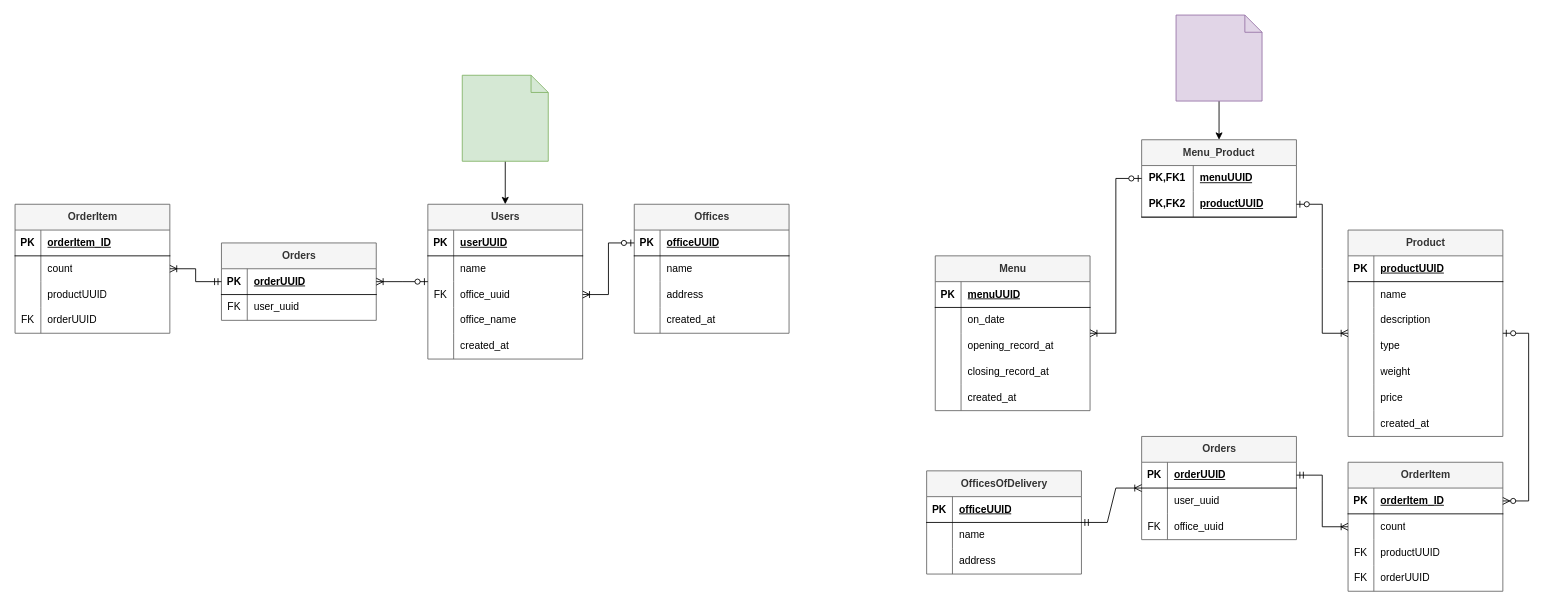
Some shapes in this 1551 by 606 pixel diagram are drawn without their labels. Each missing label, with the centre of its shape:
"Customer Service" goes at point (504, 117).
"Restaurant Service" goes at point (1218, 57).
